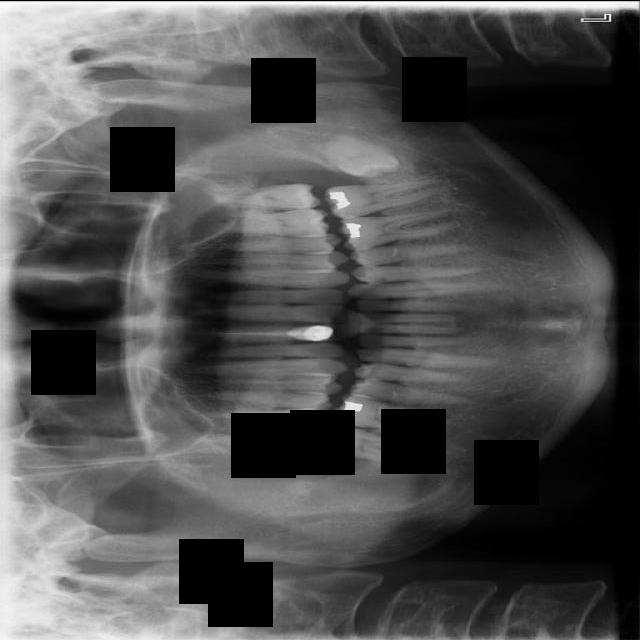52: (335, 204, 393, 255), (312, 421, 368, 460), (328, 391, 384, 427), (323, 184, 378, 219), (293, 321, 340, 341)
73: (205, 323, 294, 344), (580, 68, 596, 76)
BioHorizons Implant: (202, 182, 320, 208)
Biomet 3i Implant: (316, 127, 402, 189)
Blue Sky Bio Implant: (320, 177, 439, 220)
Caries: (196, 430, 312, 459)
Implant: (311, 421, 435, 467)
